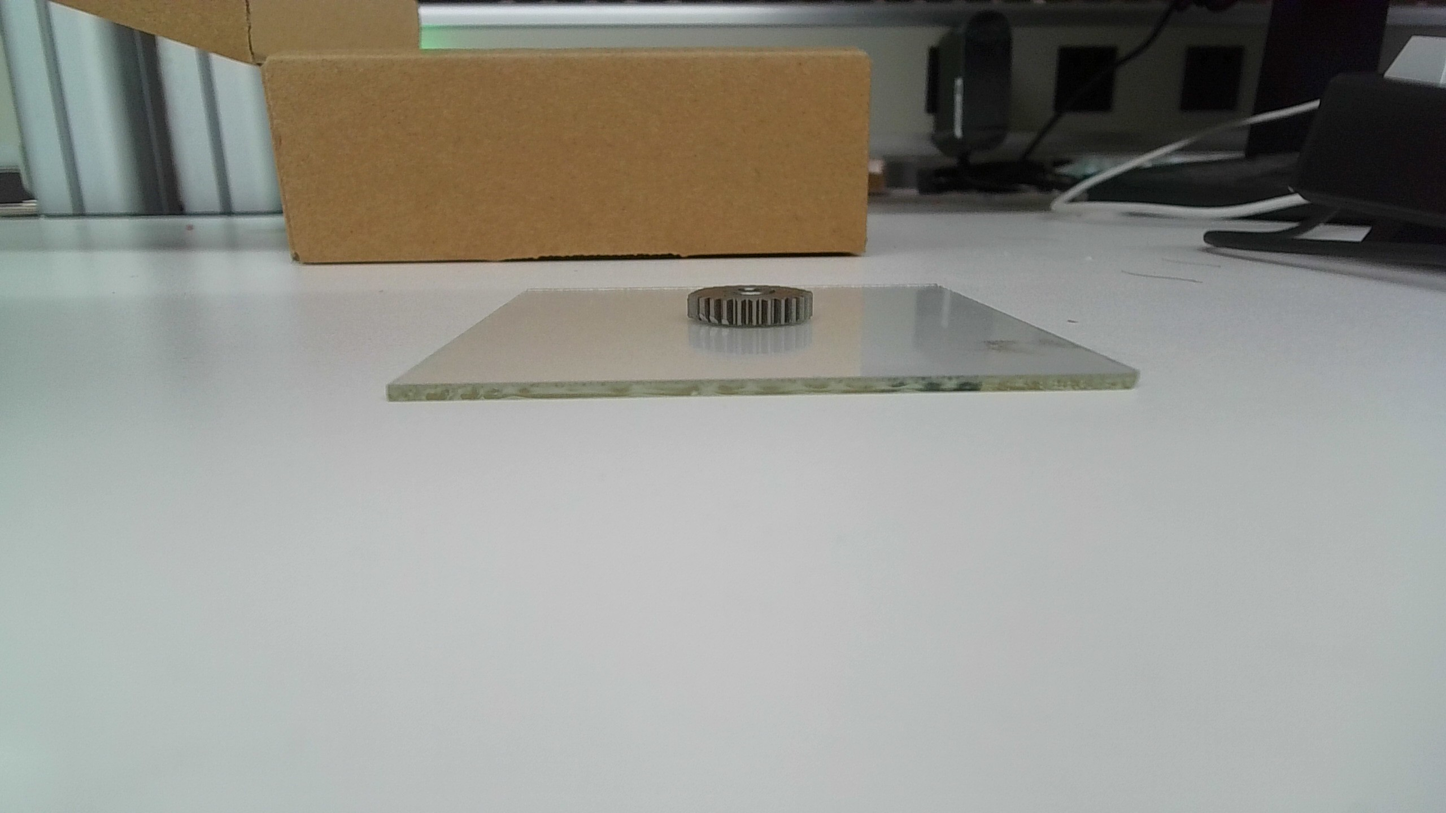gear: (685, 283, 816, 329)
